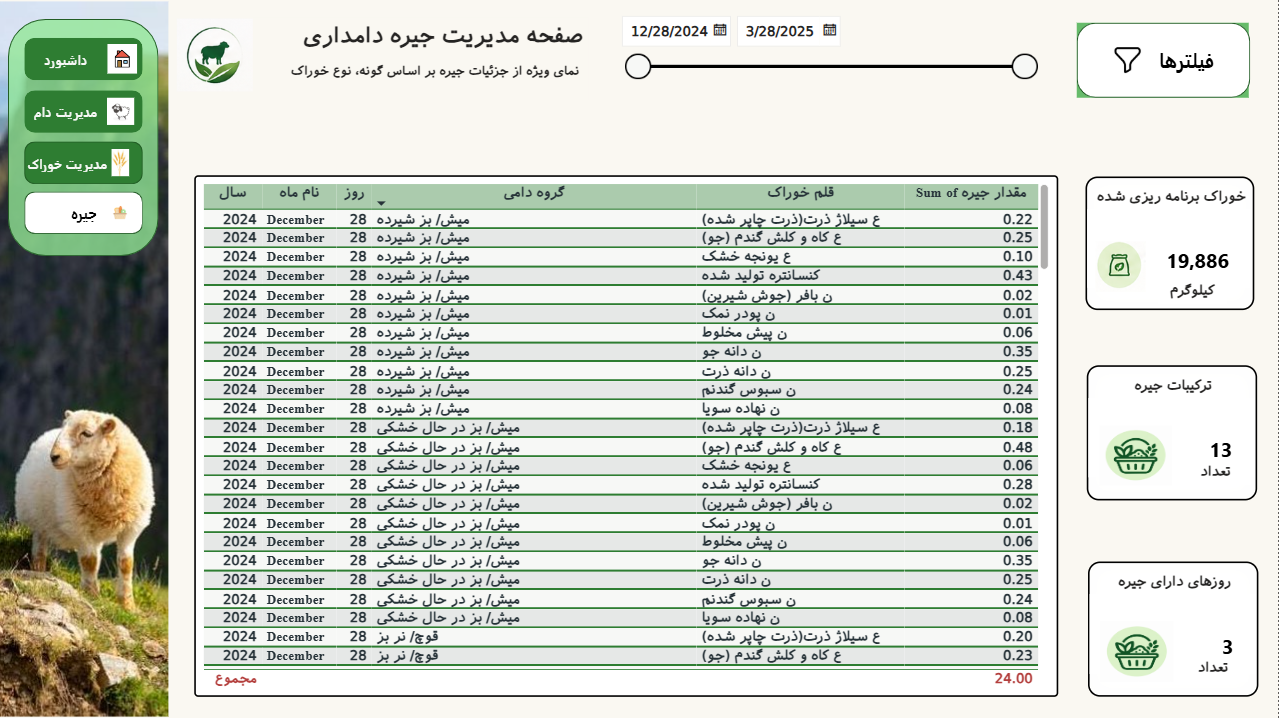

This screenshot's page, from the dashboard's own definition file:
{"tool":"powerbi","page":{"name":"جیره","canvas":[1280,720],"ordinal":3},"visuals":[{"type":"image","box":[0,0,170,720],"z":0},{"type":"shape","box":[1078.1,23.4,173.4,75],"z":0,"group":"g3"},{"type":"shape","box":[26.1,39.1,118.5,42.7],"z":0,"group":"g1"},{"type":"shape","box":[26.1,142.2,118.5,42.7],"z":0,"group":"g2"},{"type":"shape","box":[9.5,20.1,150.5,237],"z":1000},{"type":"image","box":[1109.7,39.8,38.7,42.2],"z":1000,"group":"g3"},{"type":"image","box":[105.5,45,35.6,29.6],"z":1000,"group":"g1"},{"type":"image","box":[109.1,149.3,27.3,27.3],"z":1000,"group":"g2"},{"type":"group","id":"g1","title":"Group 2","box":[26.1,39.1,118.5,42.7],"z":2000},{"type":"shape","box":[26.1,91.3,118.5,42.7],"z":3000},{"type":"image","box":[105.5,98.4,35.6,27.3],"z":4000},{"type":"group","id":"g2","title":"Group 1","box":[26.1,142.2,118.5,42.7],"z":5000},{"type":"shape","box":[26.2,192.5,118.8,42.5],"z":6000},{"type":"image","box":[111.2,198.8,21.2,30],"z":7000},{"type":"image","box":[179.3,18.8,76.2,75],"z":8000},{"type":"textbox","box":[255,18.8,335,82.5],"z":9000},{"type":"slicer","fields":{"Values":["DimDate.Date"]},"box":[611.2,5,436.2,102.5],"z":10000},{"type":"group","id":"g3","title":"Group 3","box":[1078.1,23.4,173.4,75],"z":11000},{"type":"cardVisual","title":"روزهای دارای جیره","fields":{"Data":["جیره.تعداد روزهای دارای جیره"]},"box":[1090,563,170,135],"z":12000},{"type":"image","box":[1102.5,623,72.5,60],"z":13000},{"type":"textbox","box":[1179.5,656.5,70,26.2],"z":14000},{"type":"cardVisual","title":"ترکیبات جیره","fields":{"Data":["جیره.تعداد ترکیب های جیره"]},"box":[1089,366,170,135],"z":15000},{"type":"image","box":[1101.5,426,72.5,60],"z":16000},{"type":"textbox","box":[1182.5,460,70,26.2],"z":17000},{"type":"cardVisual","title":"خوراک برنامه ریزی شده","fields":{"Data":["جیره.خوراک برنامه ریزی شده"]},"box":[1087,177,168.8,133.8],"z":18000},{"type":"image","box":[1092,242,60,50],"z":19000},{"type":"textbox","box":[1159.5,278.2,68.8,26.2],"z":20000},{"type":"tableEx","fields":{"Values":["DimDate.سال","DimDate.نام ماه","DimDate.روز","DimAnimalGroup.گروه دامی","DimFeedItem.قلم خوراک","Sum(جیره.مقدار جیره)"]},"box":[196.2,176.2,863.8,521.2],"z":21000}]}

Visuals, with their boxes on the page's 1280x720 design canvas (x1, y1, x2, y2). These are canvas units, not pixel positions in the 1279x718 screenshot, which may show the page scaled, cropped or inside an application window:
image: BBox(0, 0, 170, 720)
shape: BBox(1078, 23, 1252, 98)
shape: BBox(26, 39, 145, 82)
shape: BBox(26, 142, 145, 185)
shape: BBox(10, 20, 160, 257)
image: BBox(1110, 40, 1148, 82)
image: BBox(106, 45, 141, 75)
image: BBox(109, 149, 136, 177)
"Group 2" group: BBox(26, 39, 145, 82)
shape: BBox(26, 91, 145, 134)
image: BBox(106, 98, 141, 126)
"Group 1" group: BBox(26, 142, 145, 185)
shape: BBox(26, 192, 145, 235)
image: BBox(111, 199, 132, 229)
image: BBox(179, 19, 256, 94)
textbox: BBox(255, 19, 590, 101)
slicer - DimDate.Date: BBox(611, 5, 1047, 108)
"Group 3" group: BBox(1078, 23, 1252, 98)
"روزهای دارای جیره" cardVisual: BBox(1090, 563, 1260, 698)
image: BBox(1102, 623, 1175, 683)
textbox: BBox(1180, 656, 1250, 683)
"ترکیبات جیره" cardVisual: BBox(1089, 366, 1259, 501)
image: BBox(1102, 426, 1174, 486)
textbox: BBox(1182, 460, 1252, 486)
"خوراک برنامه ریزی شده" cardVisual: BBox(1087, 177, 1256, 311)
image: BBox(1092, 242, 1152, 292)
textbox: BBox(1160, 278, 1228, 304)
tableEx - DimDate.سال x DimDate.نام ماه: BBox(196, 176, 1060, 697)
